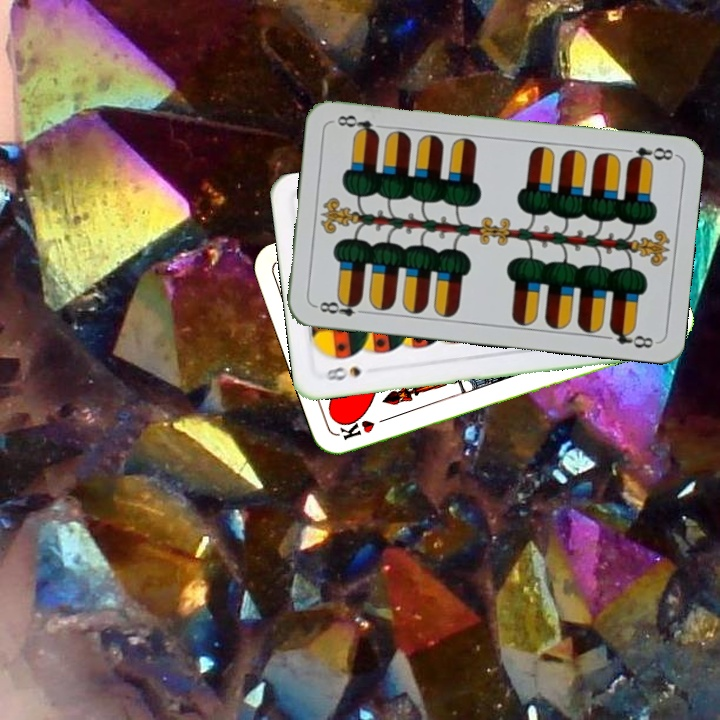E8: (311, 294, 370, 319), (624, 143, 678, 167)
HK: (335, 412, 394, 443)
S8: (321, 362, 363, 383)
